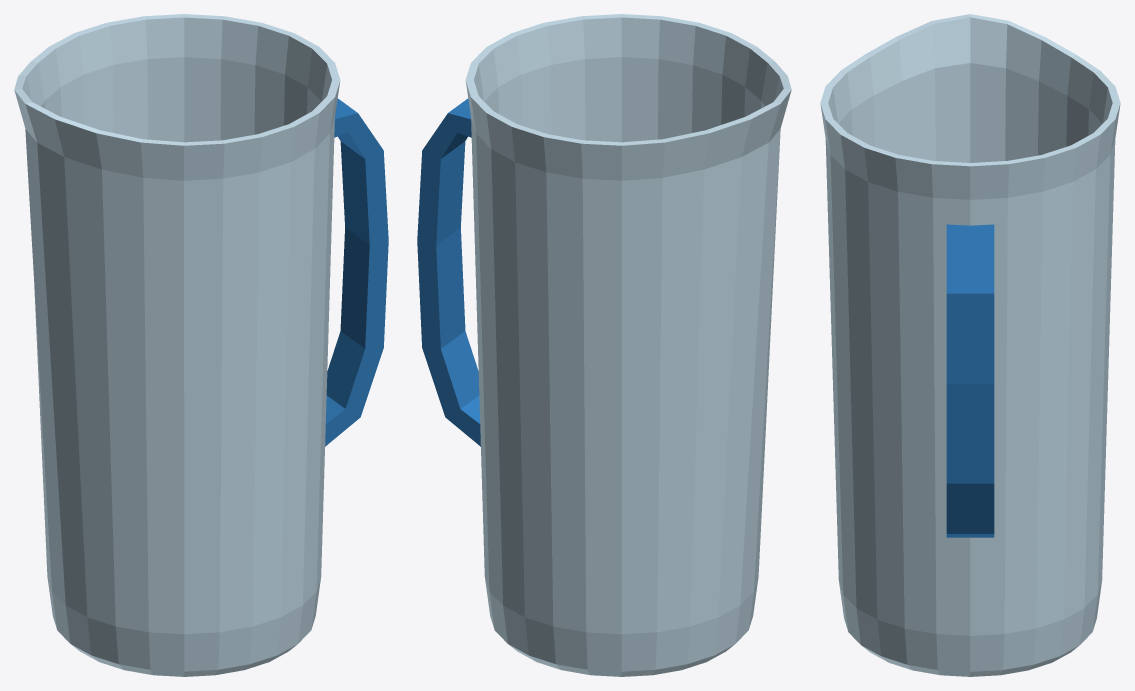
Rendered from Jarra_Agua.fbx.
3 renders of one model, left to right at view 1: azimuth 30°, elevation 25°; view 2: azimuth 150°, elevation 25°; view 3: azimuth 270°, elevation 25°, orthographic. The views are drawn at different scales.
Parts seen in each view (by area): view 1: Jarra_Agua; view 2: Jarra_Agua; view 3: Jarra_Agua.
Boxes of the visible parts, <box> form: Jarra_Agua: <box>14,14,388,676</box>; Jarra_Agua: <box>417,14,791,676</box>; Jarra_Agua: <box>820,14,1120,676</box>.
Size of the model in its own units: 0.148 by 0.226 by 0.114.
2 materials, 2 textured.
